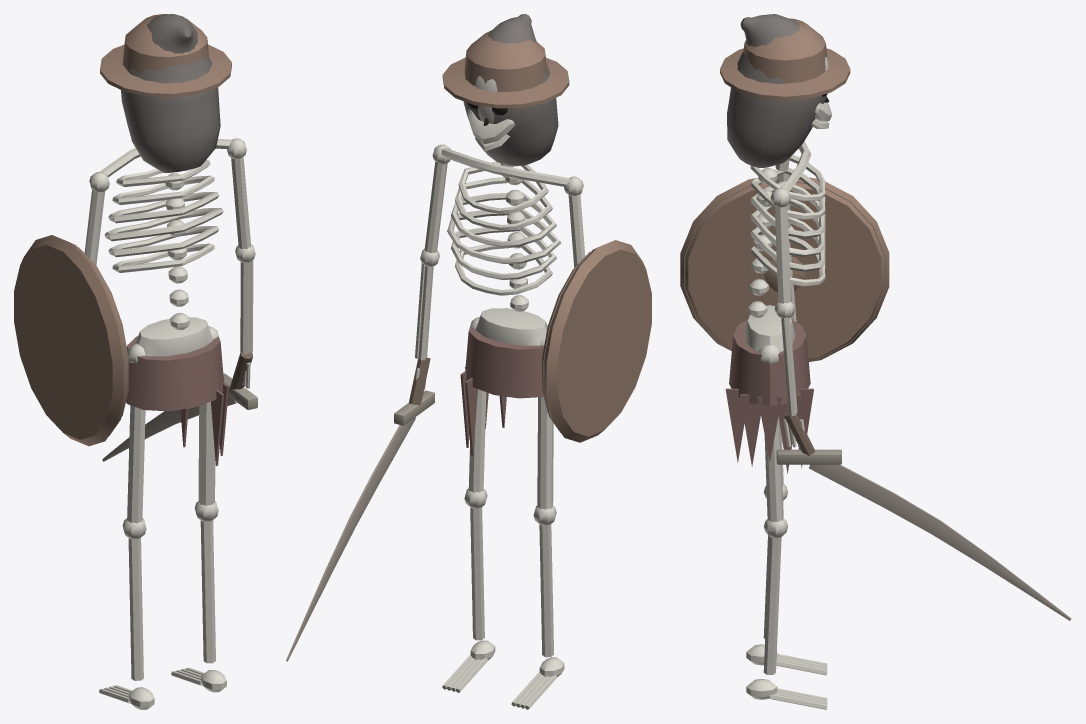
File: en_skeleton_sword.gltf
3 renders of one model, left to right at view 1: azimuth 30°, elevation 25°; view 2: azimuth 150°, elevation 25°; view 3: azimuth 270°, elevation 25°, orthographic. The views are drawn at different scales.
Visible parts, largest first — view 1: V3_Shield, Spine, V2_Hood, Hips, V1_Helm, ForeR, ShinR, ShinL, LegL, LegR, ArmR, ArmL; view 2: V3_Shield, Spine, Hips, V1_Helm, ForeR, V2_Hood, ShinR, ShinL, LegL, LegR, ArmR, Head (+1 smaller); view 3: V3_Shield, Hips, V2_Hood, ForeR, Spine, V1_Helm, ShinR, LegR, ArmR, ShinL.
Part boxes in pixels (left/top/right/bottom): V3_Shield: left=14, top=235, right=128, bottom=446; Spine: left=99, top=139, right=231, bottom=330; V2_Hood: left=121, top=14, right=220, bottom=172; Hips: left=126, top=317, right=228, bottom=465; V1_Helm: left=100, top=14, right=231, bottom=97; ForeR: left=102, top=259, right=257, bottom=461; ShinR: left=171, top=520, right=226, bottom=692; ShinL: left=99, top=538, right=154, bottom=709; LegL: left=122, top=343, right=146, bottom=539; LegR: left=194, top=326, right=219, bottom=521; ArmR: left=227, top=138, right=255, bottom=263; ArmL: left=84, top=172, right=109, bottom=265; V3_Shield: left=542, top=240, right=651, bottom=442; Spine: left=441, top=148, right=569, bottom=311; Hips: left=460, top=308, right=547, bottom=455; V1_Helm: left=442, top=30, right=569, bottom=108; ForeR: left=286, top=263, right=434, bottom=661; V2_Hood: left=463, top=14, right=558, bottom=165; ShinR: left=442, top=507, right=495, bottom=692; ShinL: left=511, top=524, right=564, bottom=709; LegL: left=533, top=335, right=556, bottom=525; LegR: left=464, top=317, right=487, bottom=508; ArmR: left=420, top=144, right=450, bottom=266; Head: left=467, top=76, right=514, bottom=144; V3_Shield: left=680, top=175, right=889, bottom=361; Hips: left=725, top=305, right=813, bottom=473; V2_Hood: left=727, top=14, right=825, bottom=167; ForeR: left=776, top=317, right=1071, bottom=620; Spine: left=748, top=141, right=825, bottom=317; V1_Helm: left=720, top=18, right=850, bottom=100; ShinR: left=746, top=536, right=827, bottom=709; LegR: left=758, top=345, right=788, bottom=538; ArmR: left=770, top=187, right=795, bottom=318; ShinL: left=746, top=535, right=827, bottom=675.
Size of the model in its own units: 0.5353 by 1.82 by 0.9582.
